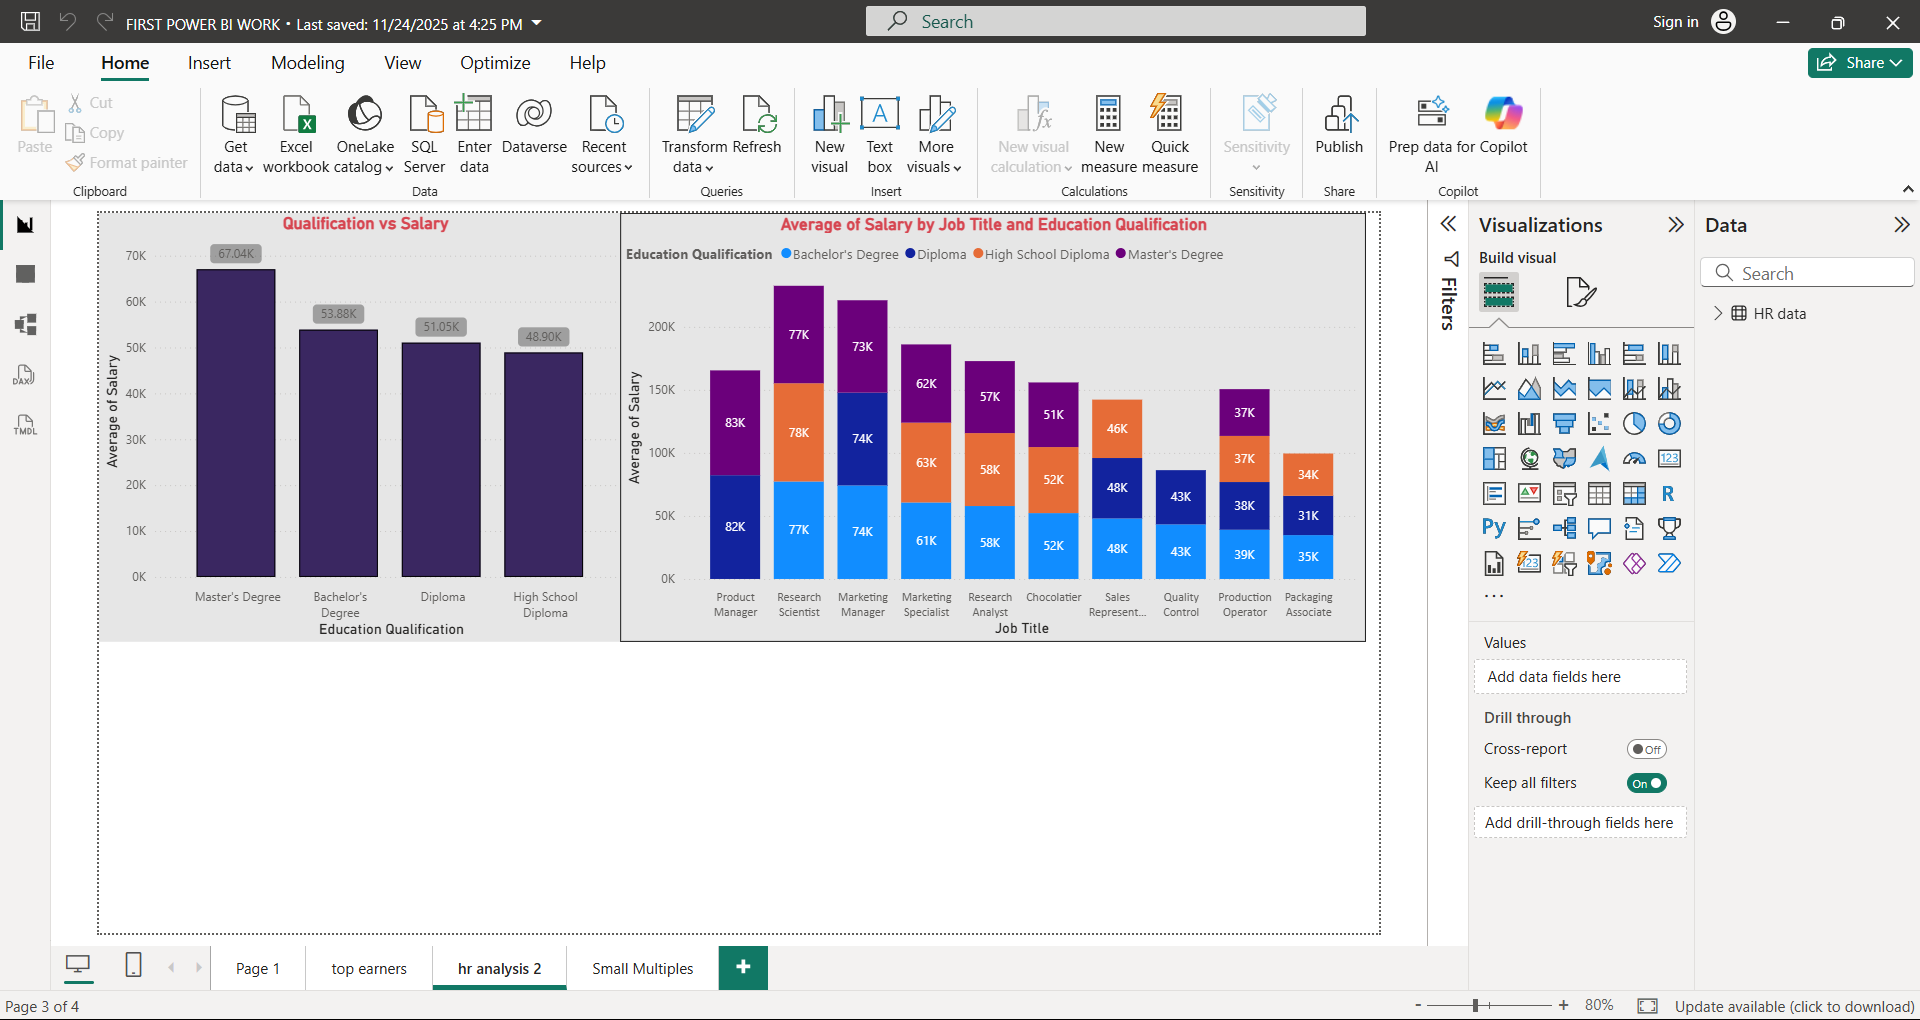

The dashboard page shown, as its layout file describes it:
{"tool":"powerbi","page":{"name":"hr analysis 2","canvas":[1280,720],"ordinal":2},"visuals":[{"type":"clusteredColumnChart","title":"Qualification vs Salary","fields":{"Category":["HR data.Education Qualification"],"Y":["Avg(HR data.Salary)"]},"box":[0,0,533.7,428.9],"z":0},{"type":"columnChart","fields":{"Category":["HR data.Job Title"],"Y":["Avg(HR data.Salary)"],"Series":["HR data.Education Qualification"]},"box":[521.7,0,745.8,428.9],"z":1000}]}

Visuals, with their boxes on the page's 1280x720 design canvas (x1, y1, x2, y2). These are canvas units, not pixel positions in the 1920x1020 screenshot, which may show the page scaled, cropped or inside an application window:
"Qualification vs Salary" clusteredColumnChart: <region>0, 0, 534, 429</region>
columnChart - HR data.Job Title x Avg(HR data.Salary): <region>522, 0, 1268, 429</region>
